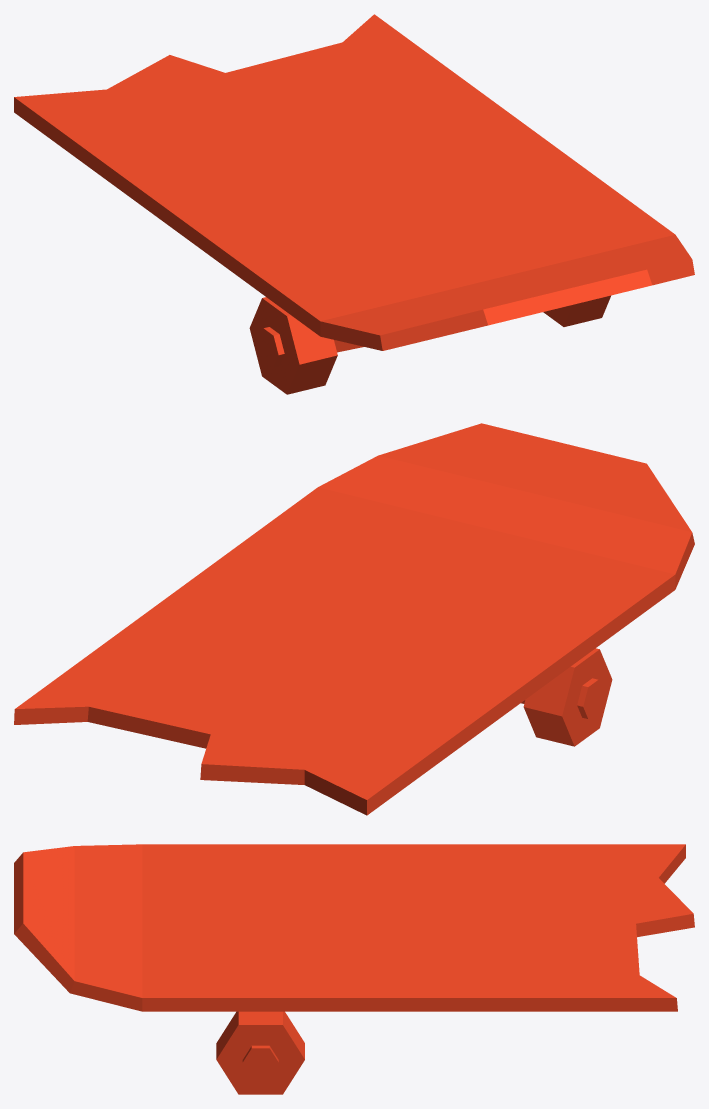
File: SM_Skateboard_Broken_A_City.fbx
3 views of the same model, one above another, from view 1: azimuth 30°, elevation 25°; view 2: azimuth 150°, elevation 25°; view 3: azimuth 270°, elevation 25° (orthographic). The views are drawn at different scales.
Parts seen in each view (by area): view 1: SM_Skateboard_Broken_A_City; view 2: SM_Skateboard_Broken_A_City; view 3: SM_Skateboard_Broken_A_City.
Part boxes in pixels (x1=…): SM_Skateboard_Broken_A_City: x1=14, y1=14, x2=694, y2=394; SM_Skateboard_Broken_A_City: x1=14, y1=423, x2=694, y2=815; SM_Skateboard_Broken_A_City: x1=14, y1=844, x2=694, y2=1094.
Size of the model in its own units: 0.3187 by 0.1336 by 0.5965.
